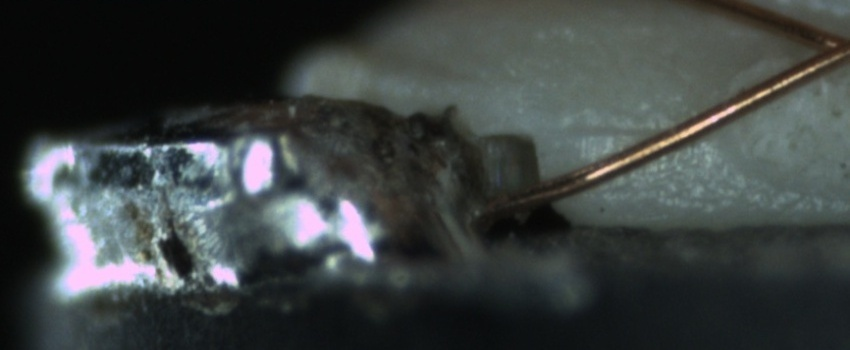CL: (780, 14, 850, 80)
DL: (550, 99, 682, 159)
